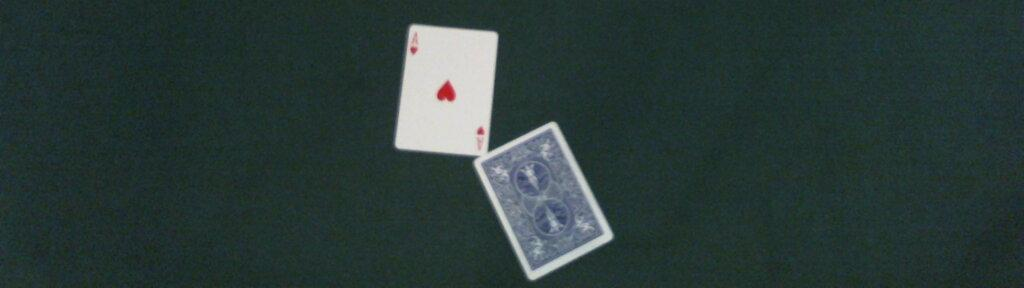ace: (393, 23, 500, 156)
back: (472, 121, 613, 280)
